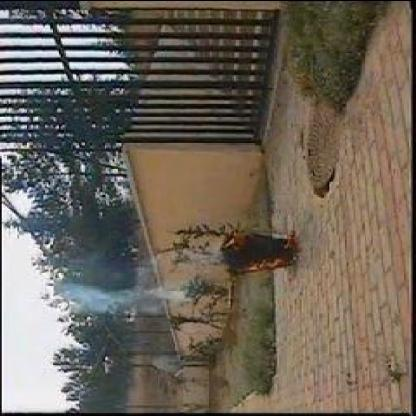-: (56, 286, 180, 310)
foggia-v2-map80-epoch100 - v1 4323: (240, 256, 283, 272)
